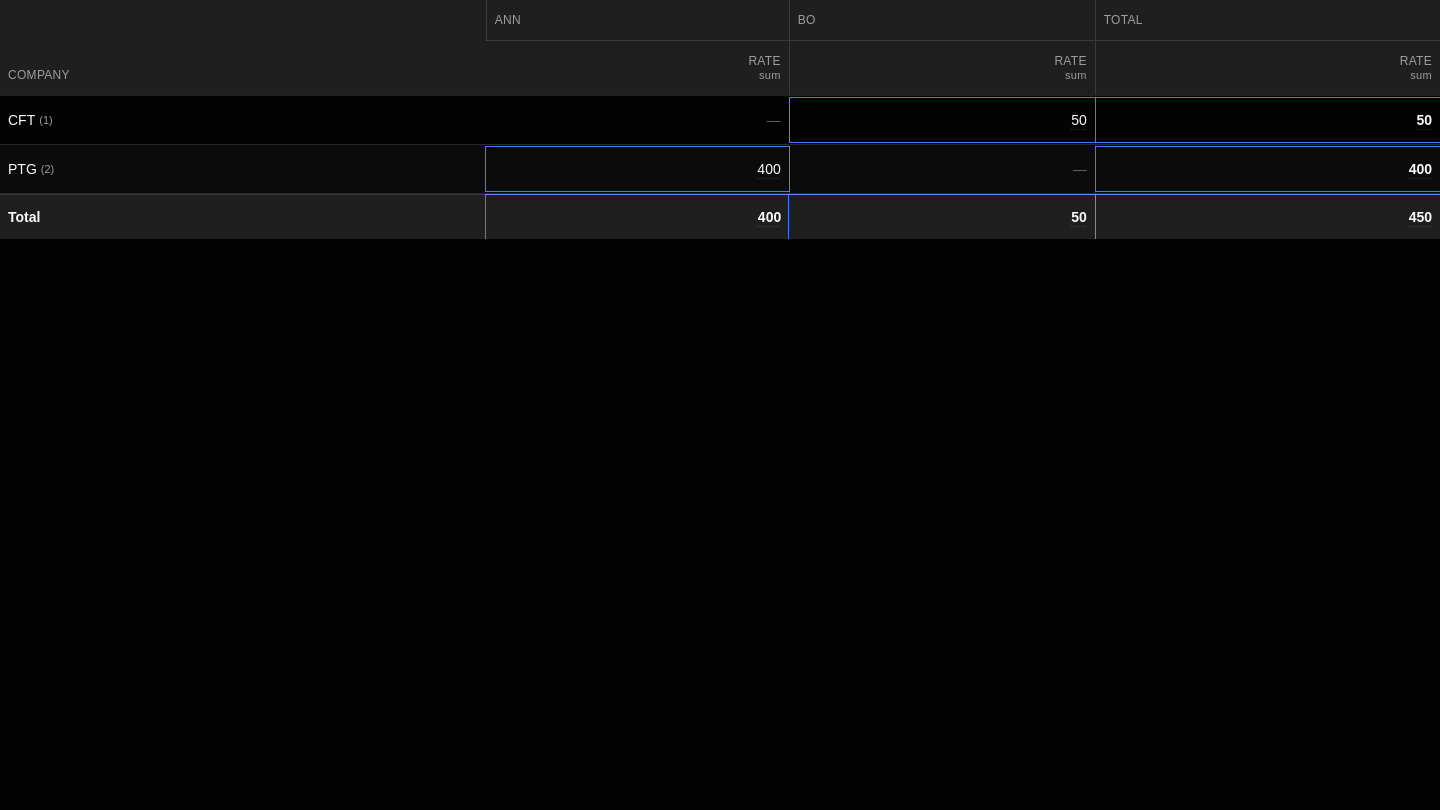
the dialog answers for the cell that opened it › says "1 row", not "1 rows"
Note: The CFT/Bo cell has exactly one load behind it.
Click the 1st button "50" at {"x": 1079, "y": 120}, box [790,98,1095,142]
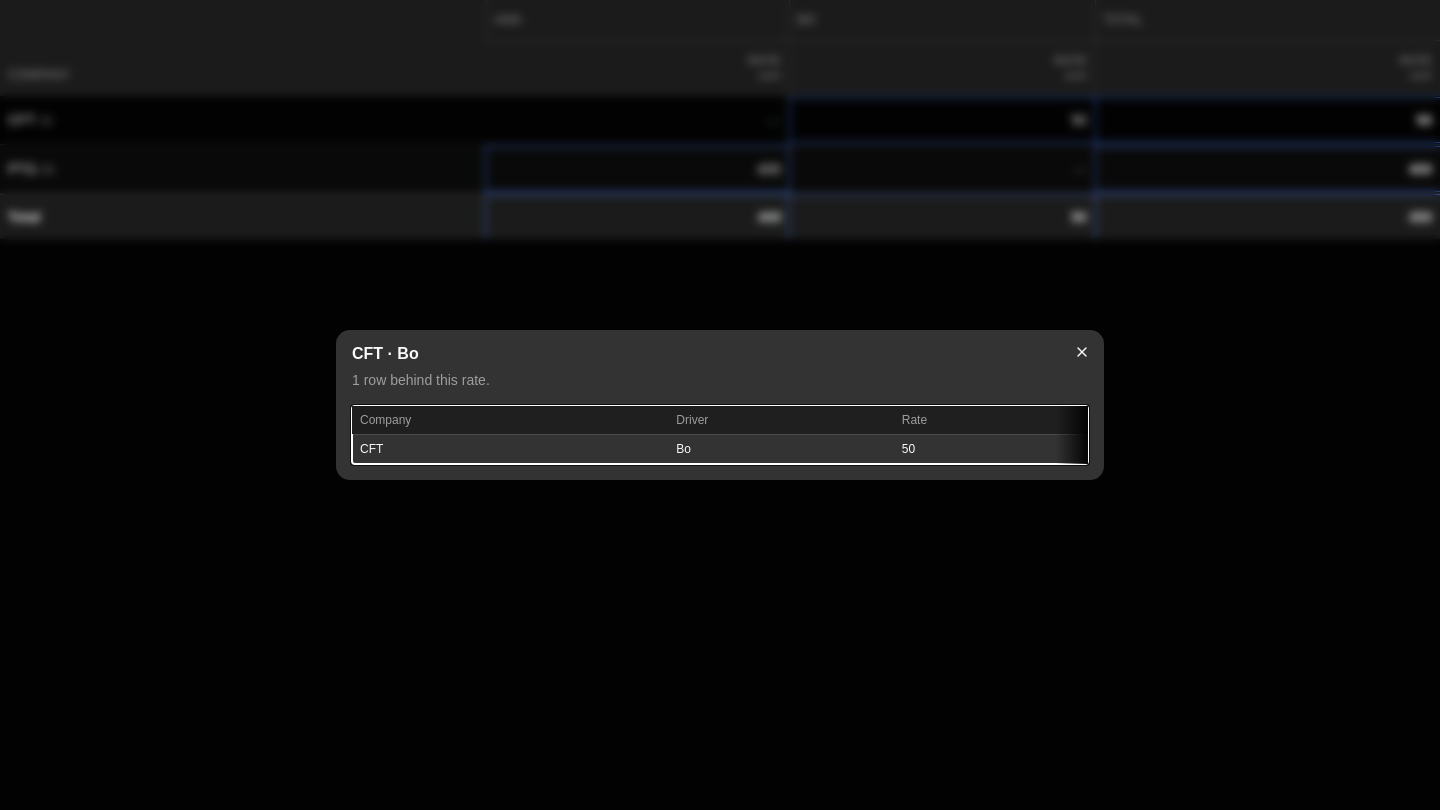
Now the dialog reads "CFT · Bo 1 row behind this rate. Company Driver Rate CFT Bo 50", box [336,330,1104,480]
